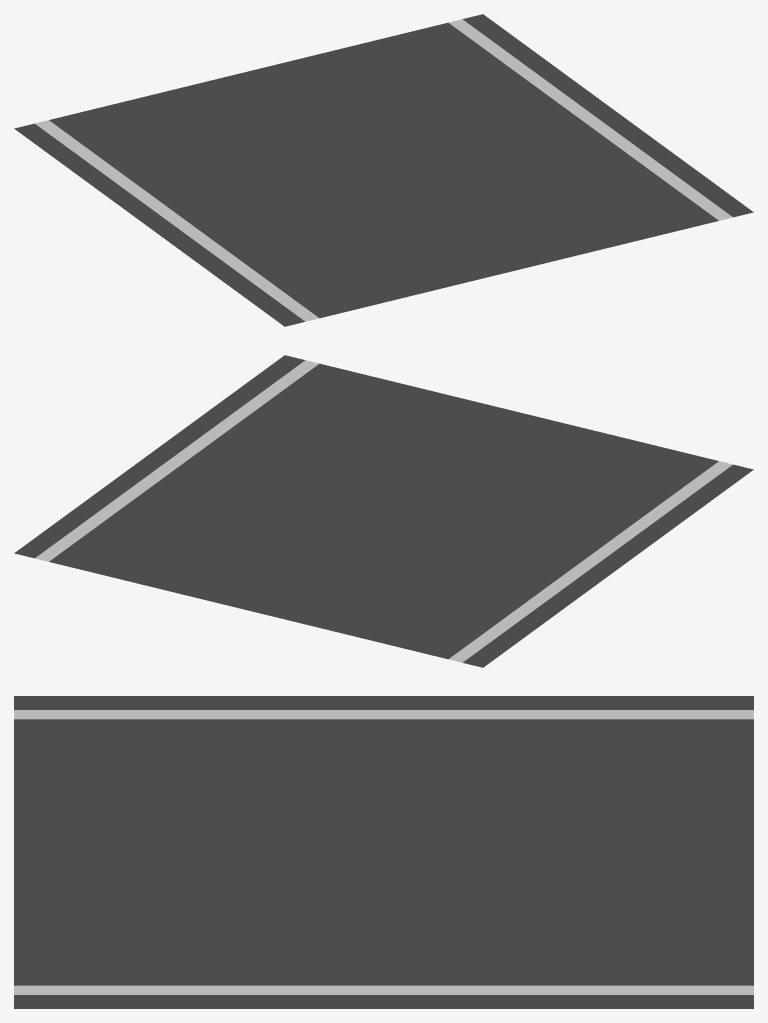
Rendered from smallStreet_5.fbx.
3 renders of one model, top to bottom at view 1: azimuth 30°, elevation 25°; view 2: azimuth 150°, elevation 25°; view 3: azimuth 270°, elevation 25°, orthographic. The views are drawn at different scales.
Parts seen in each view (by area): view 1: smallStreet_5; view 2: smallStreet_5; view 3: smallStreet_5.
Boxes of the visible parts, x1,y1,x2,y2 form: smallStreet_5: (14,14,753,326); smallStreet_5: (14,355,753,667); smallStreet_5: (14,696,753,1008).
Bounding box in the file's own units: 375 × 0 × 375.
